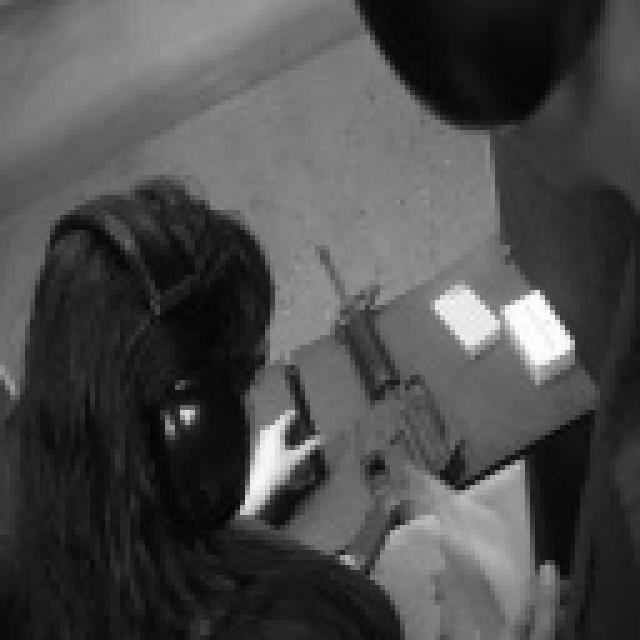Rifle: (256, 245, 508, 554)
